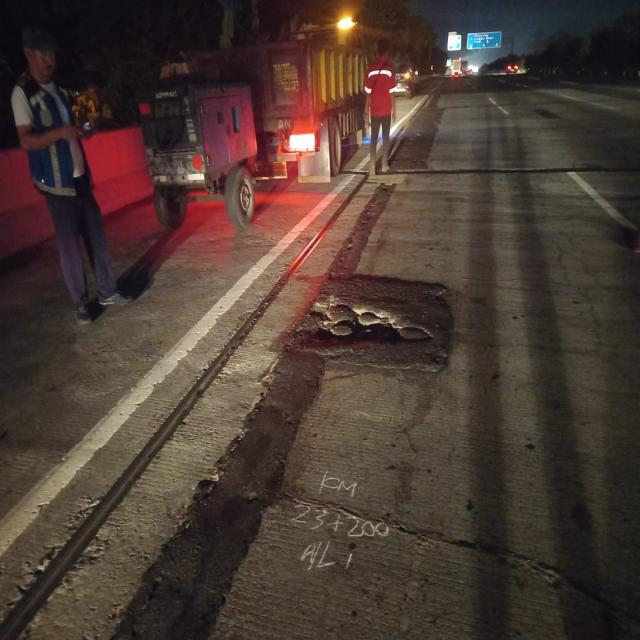Buraco: (290, 297, 438, 350)
